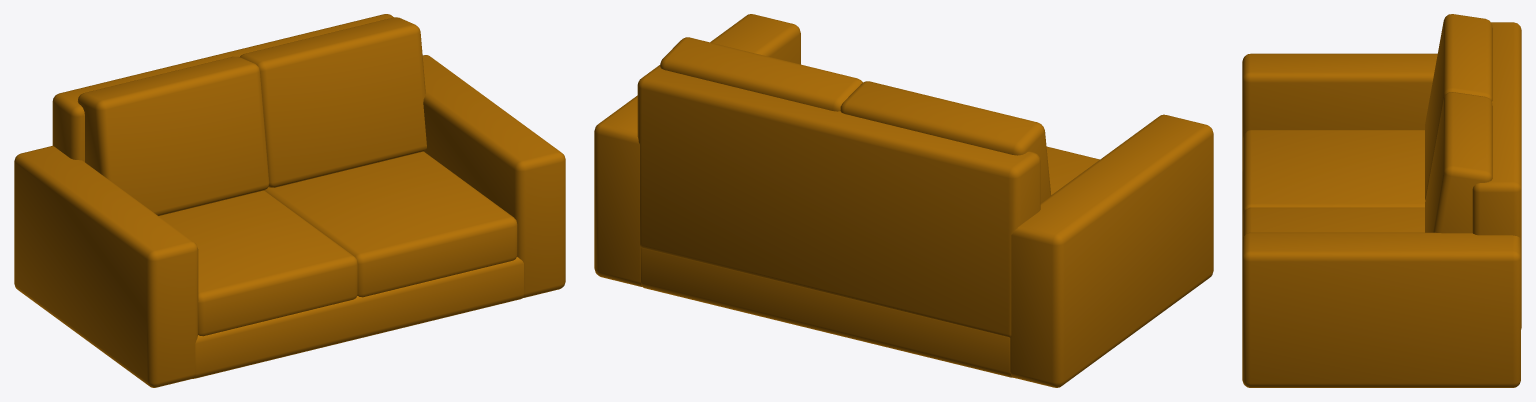
Rendered from Couch1.fbx.
3 renders of one model, left to right at view 1: azimuth 30°, elevation 25°; view 2: azimuth 150°, elevation 25°; view 3: azimuth 270°, elevation 25°, orthographic. The views are drawn at different scales.
Parts seen in each view (by area): view 1: Cube.1; view 2: Cube.1; view 3: Cube.1.
Part boxes in pixels (<box>): Cube.1: <box>14,14,565,387</box>; Cube.1: <box>594,14,1213,387</box>; Cube.1: <box>1242,14,1521,387</box>.
Bounding box in the file's own units: 750 × 345 × 436.
